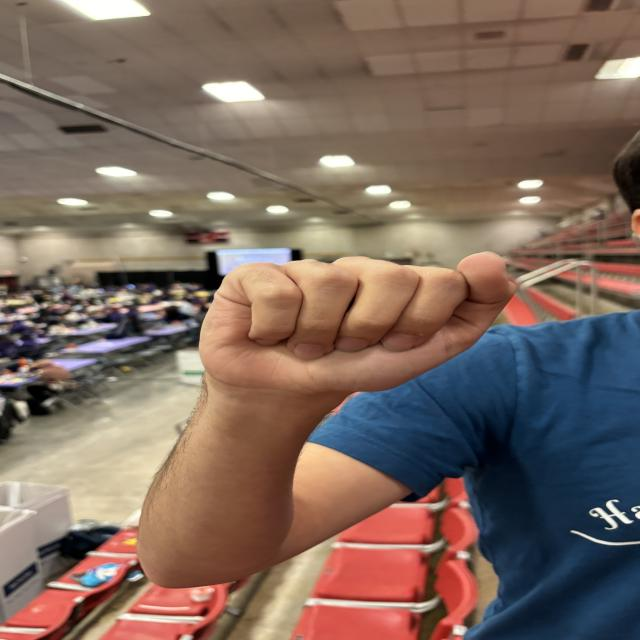A: (182, 252, 522, 386)
